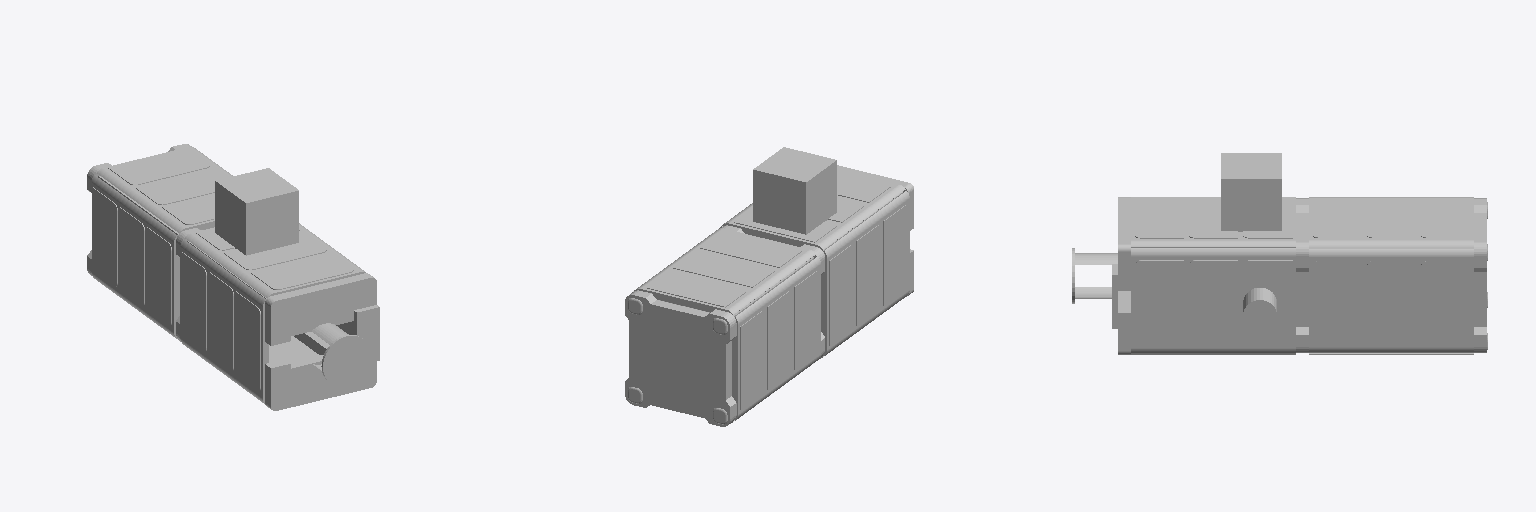
3 views of the same model, side by side, from view 1: azimuth 30°, elevation 25°; view 2: azimuth 150°, elevation 25°; view 3: azimuth 270°, elevation 25° (orthographic).
Parts seen in each view (by area): view 1: scobj; view 2: scobj; view 3: scobj.
Part boxes in pixels (left/top/right/bottom): scobj: left=87, top=144, right=379, bottom=410; scobj: left=625, top=147, right=913, bottom=426; scobj: left=1072, top=153, right=1487, bottom=354.
Bounding box in the file's own units: 0.1278 × 0.1504 × 0.3373.